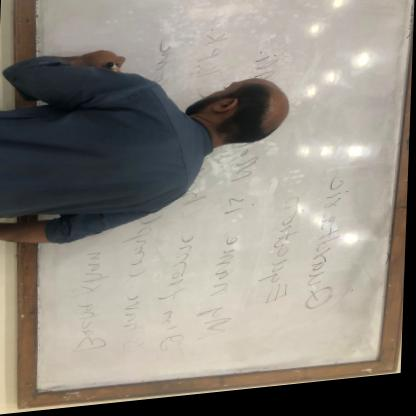Handwritten text: (129, 24, 238, 372), (193, 42, 288, 363), (110, 213, 161, 374), (303, 166, 355, 322), (61, 230, 115, 369), (260, 181, 303, 325)
Lecturer: (0, 33, 295, 253)
